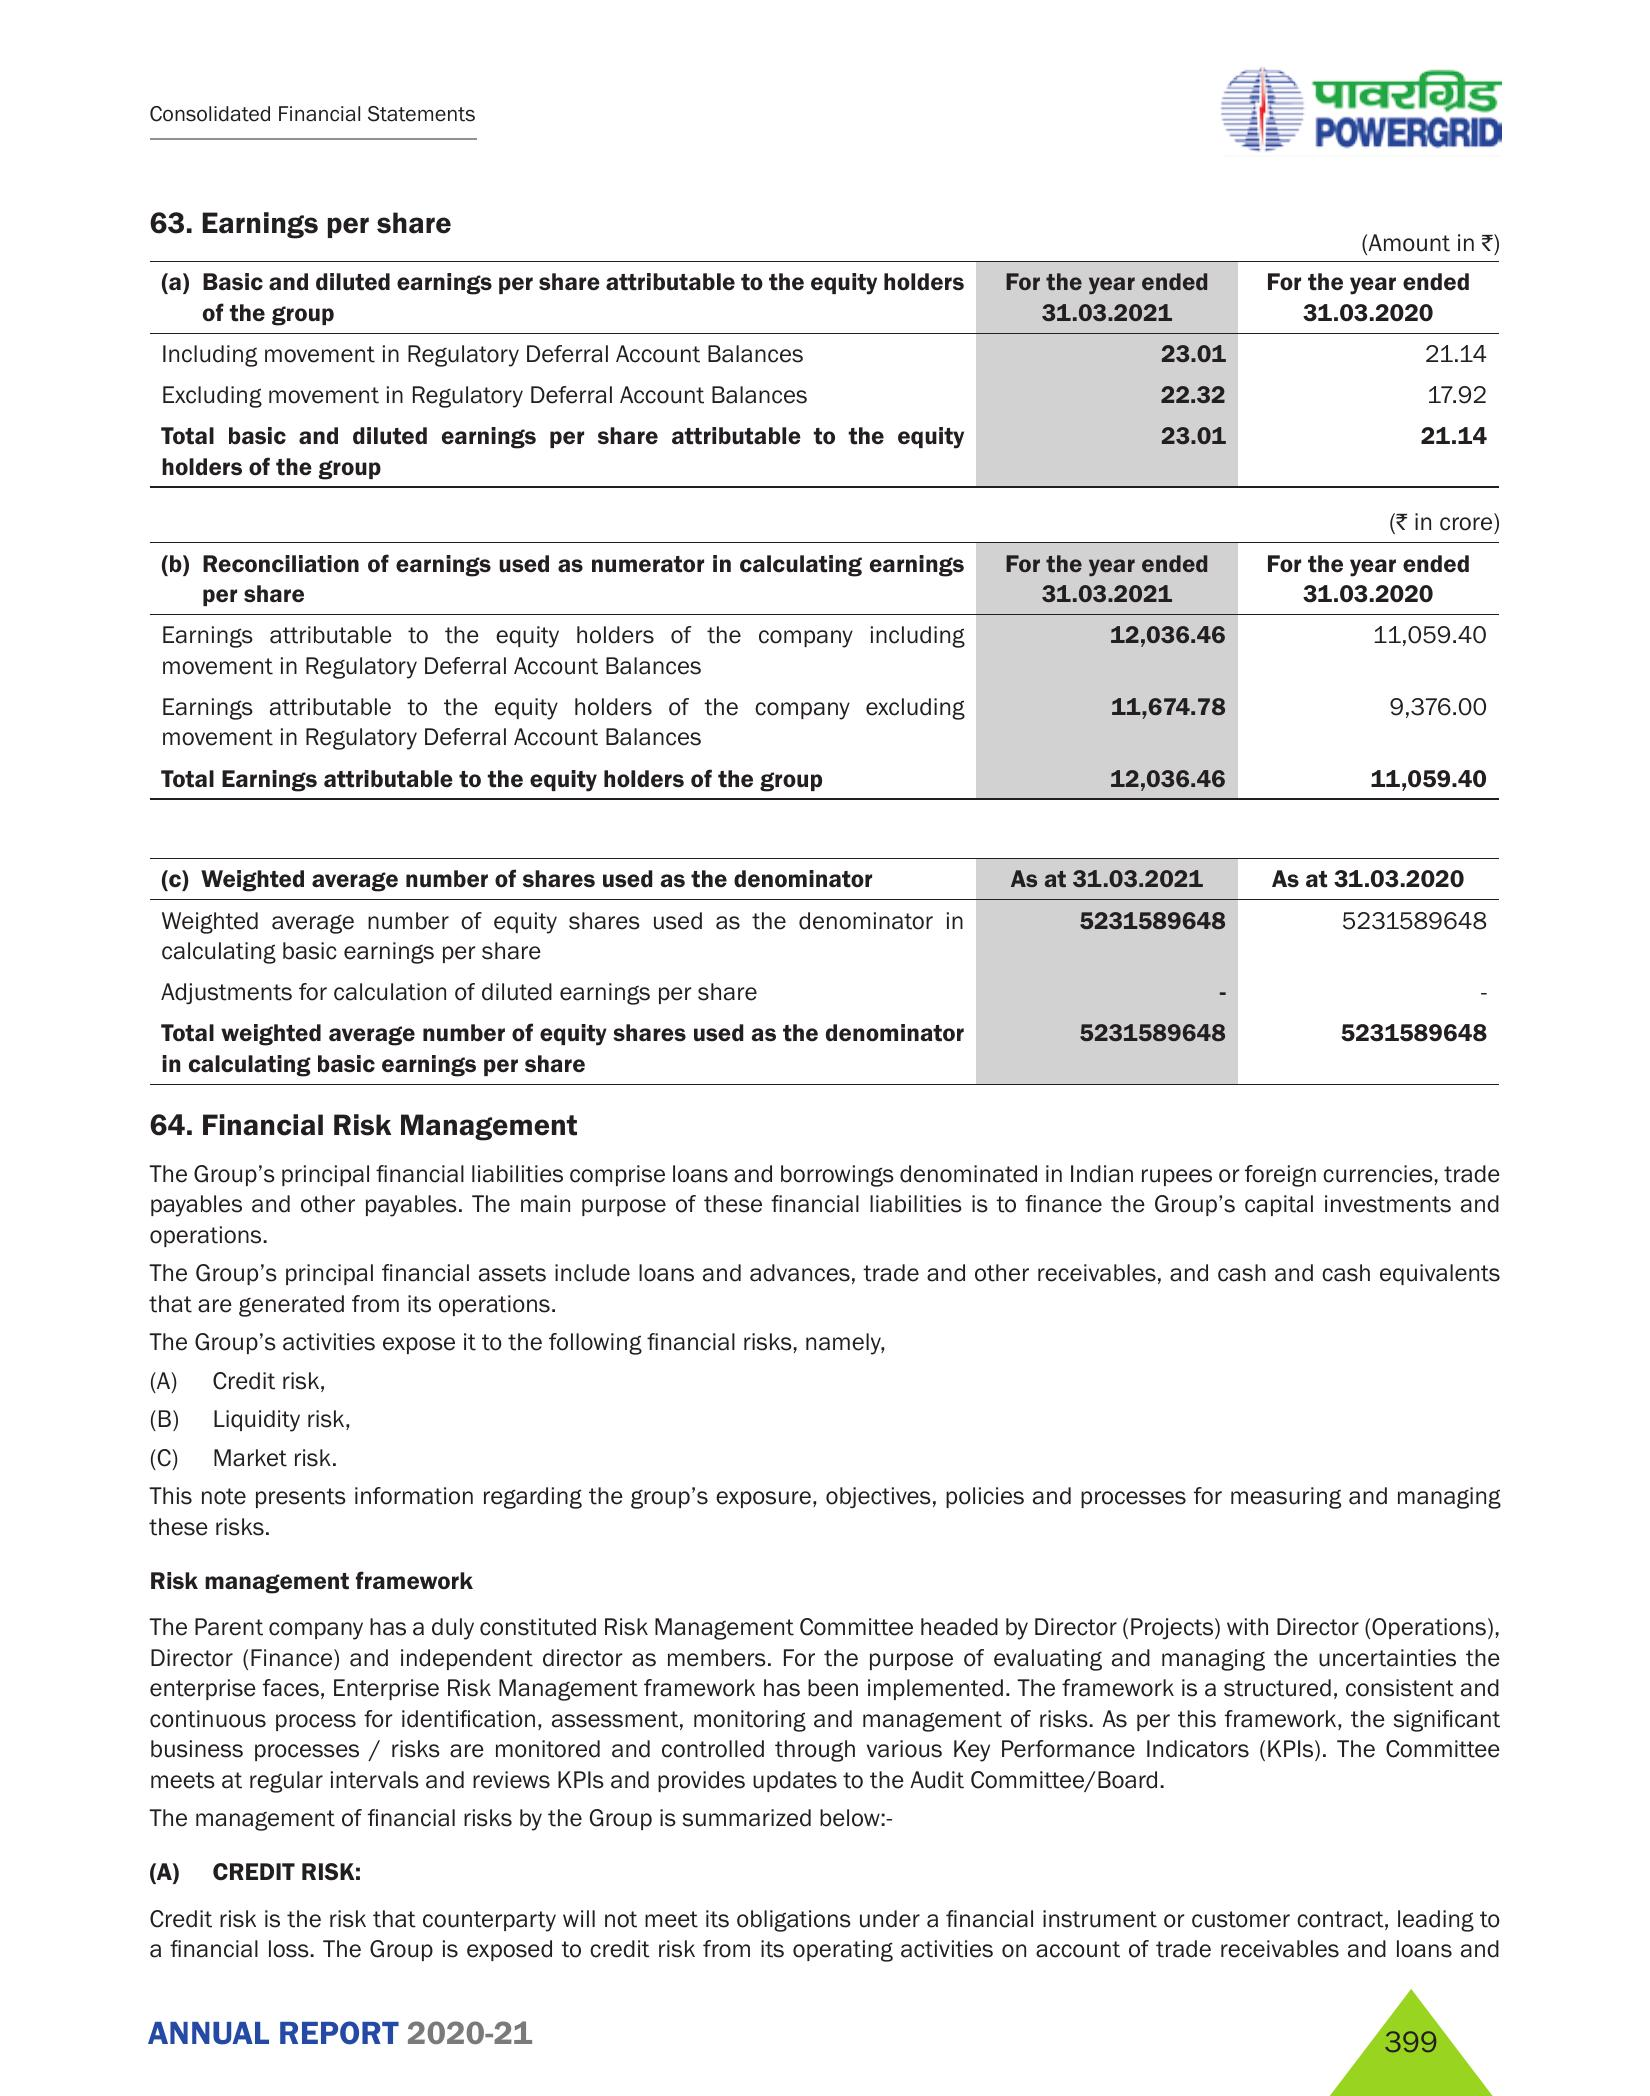Footer: (0, 1974, 1650, 2096)
Header: (0, 0, 1650, 163)
Table: (139, 539, 1511, 801), (139, 851, 1511, 1087), (139, 260, 1511, 490)
